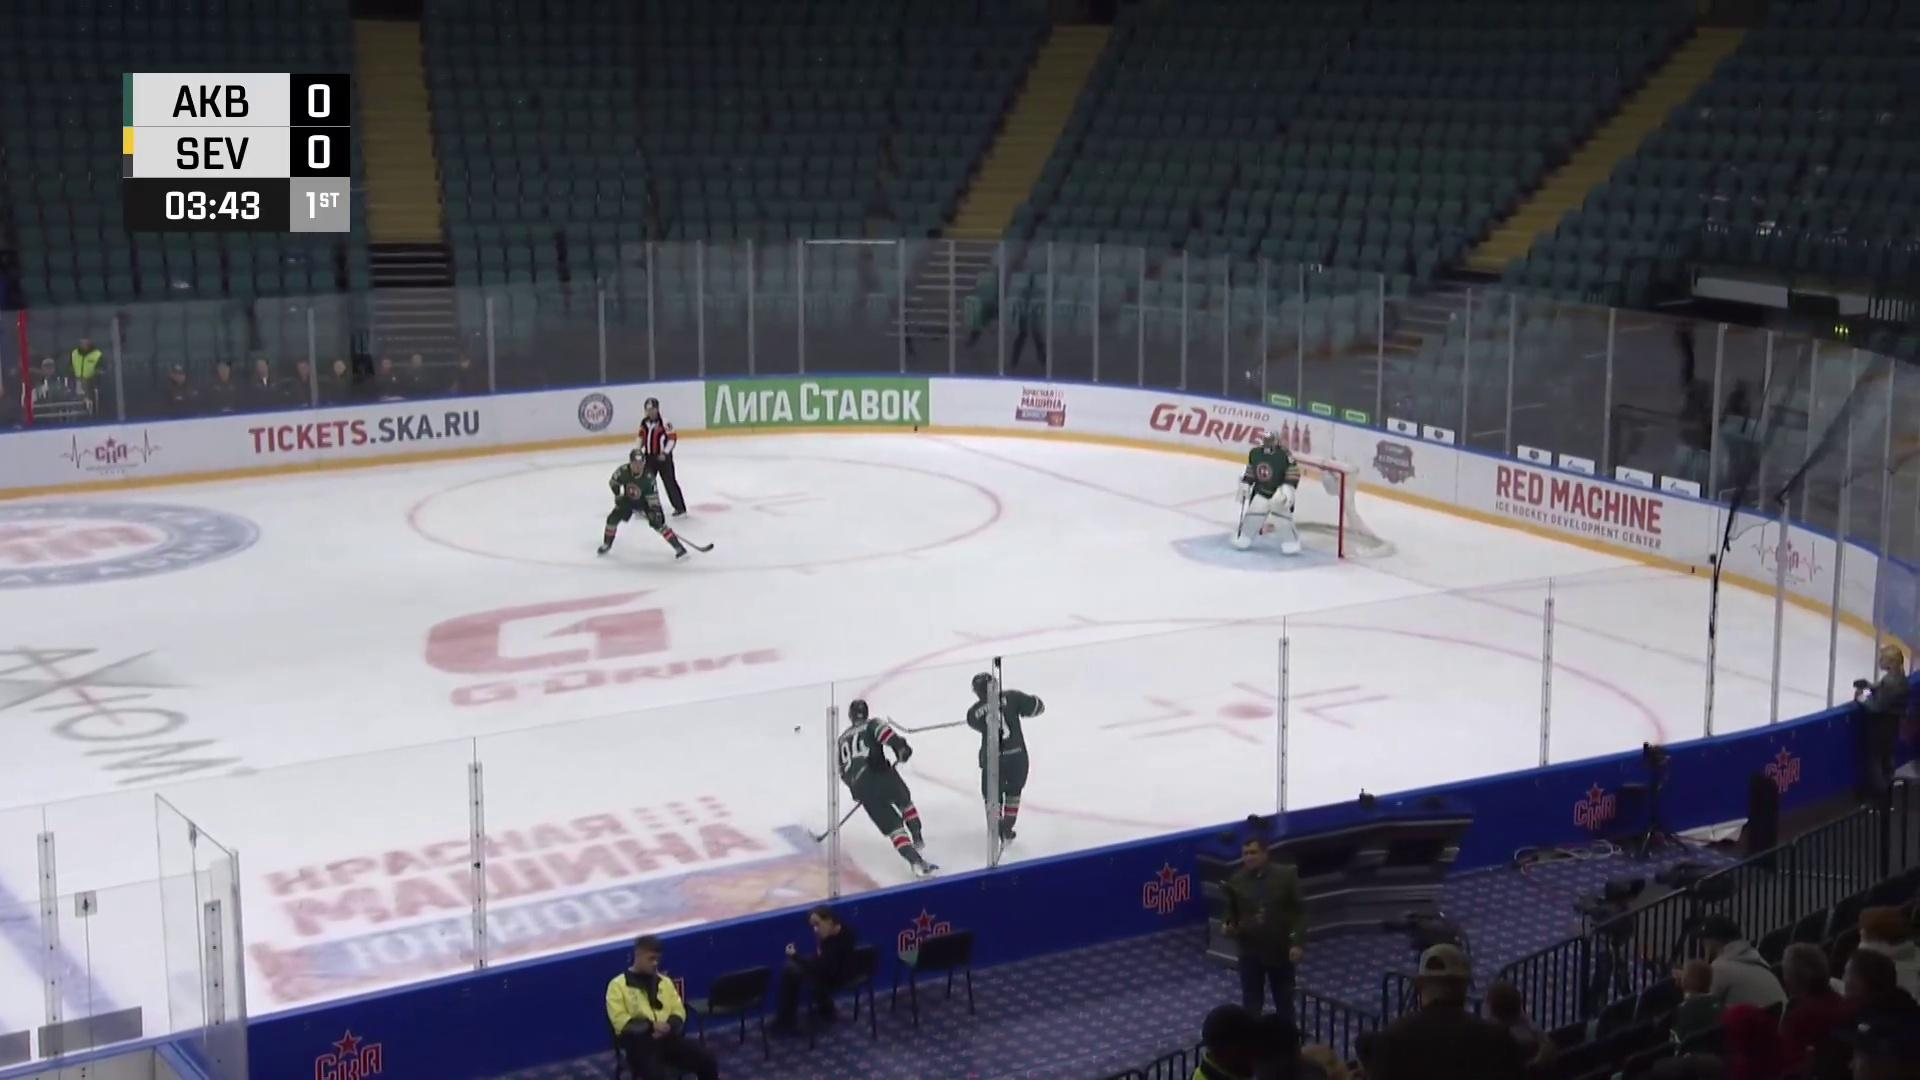ball: (794, 727, 803, 736)
